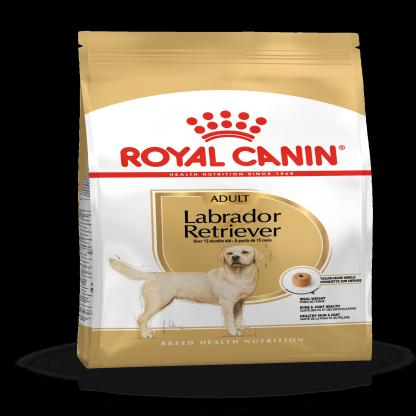dog: (109, 244, 258, 340)
